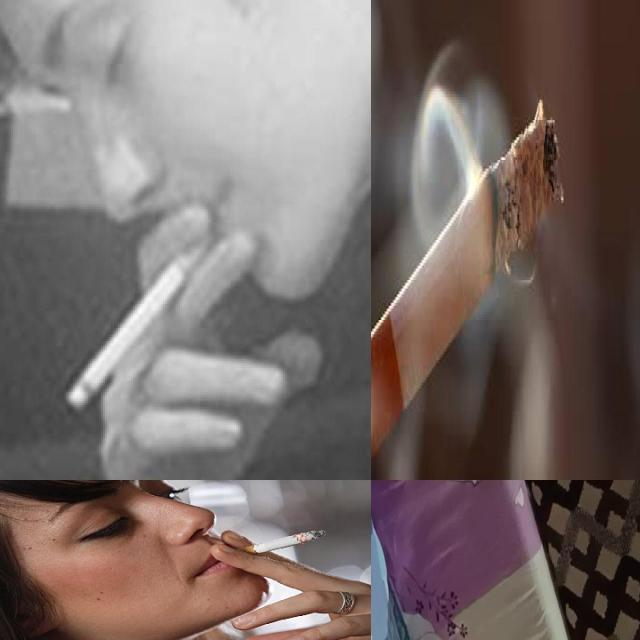smoking: (371, 100, 565, 474), (64, 227, 218, 412), (226, 529, 328, 556)
